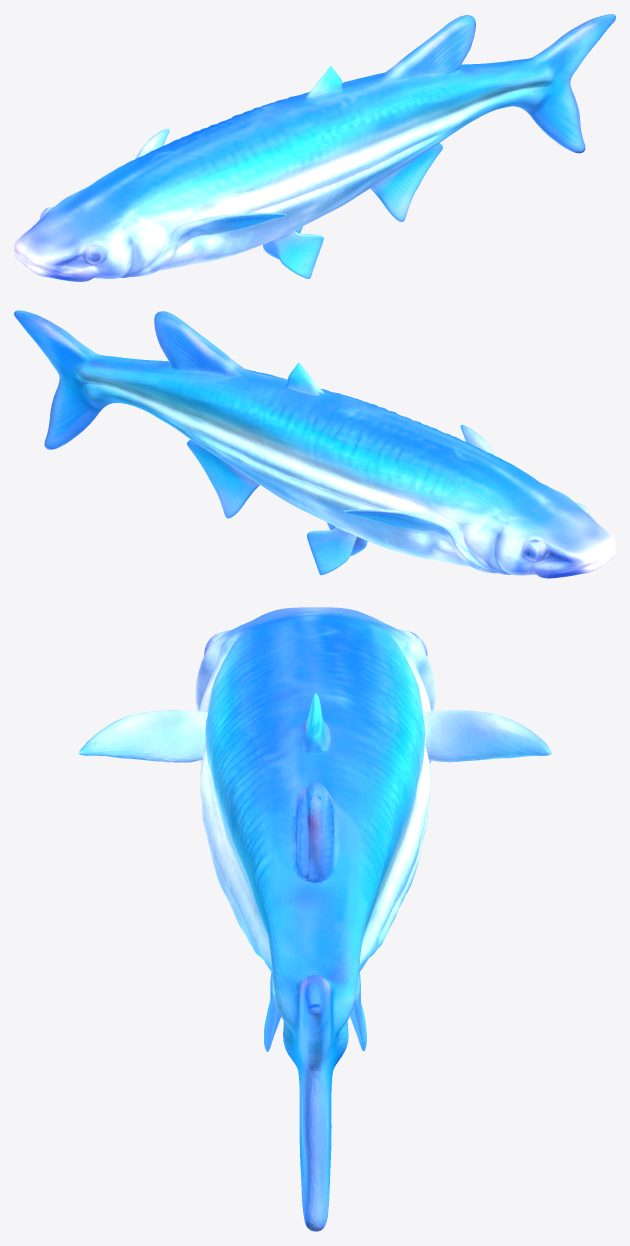
Rendered from fish.fbx.
3 views of the same model, one above another, from view 1: azimuth 30°, elevation 25°; view 2: azimuth 150°, elevation 25°; view 3: azimuth 270°, elevation 25° (orthographic). The views are drawn at different scales.
Visible parts, largest first — view 1: world; view 2: world; view 3: world.
Part boxes in pixels (x1,y1,x2,y2): world: [14, 14, 615, 281]; world: [14, 310, 615, 578]; world: [78, 607, 551, 1231].
Bounding box in the file's own units: 199 × 68.49 × 68.75.
1 material, 1 textured.
